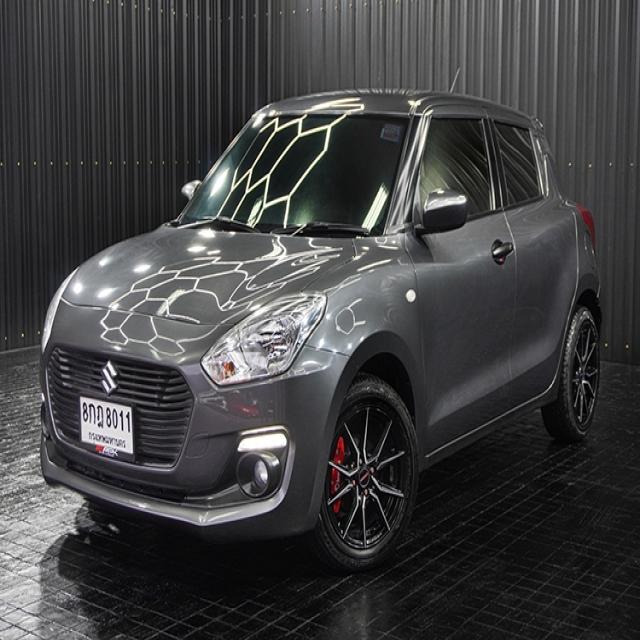license_plate: (79, 393, 136, 462)
